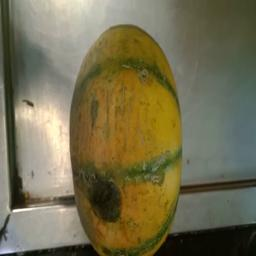Melon Semirotten: (64, 20, 188, 256)
